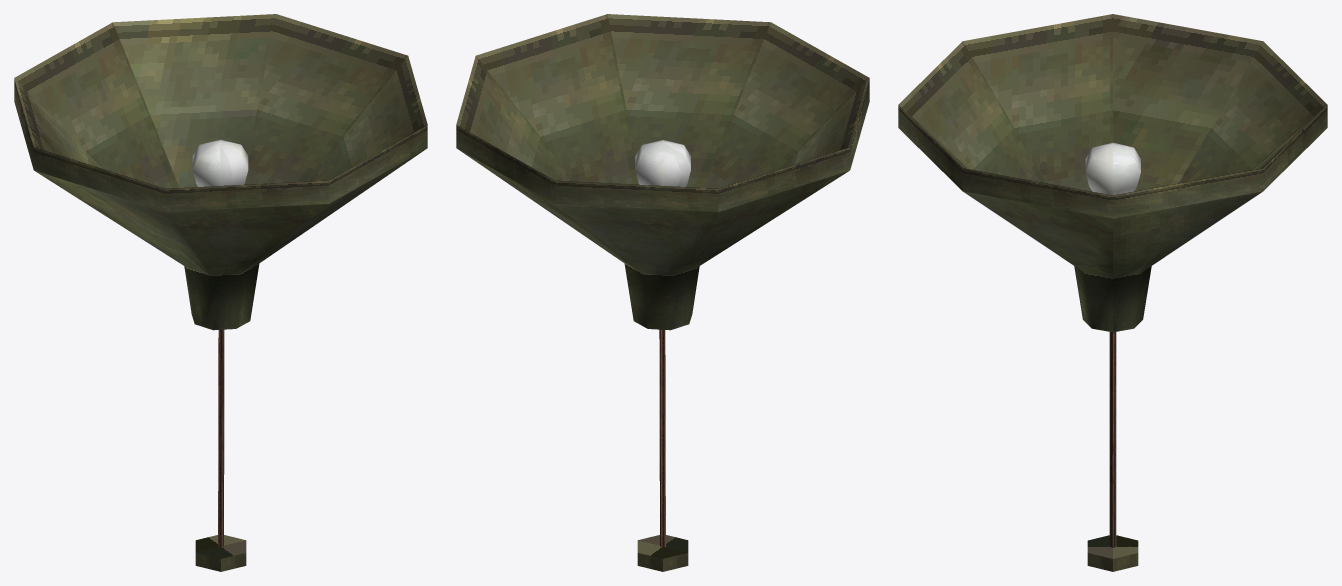
Rendered from hanging_lampshade_lg.fbx.
The picture shows the model from 3 angles, left to right: view 1: azimuth 30°, elevation 25°; view 2: azimuth 150°, elevation 25°; view 3: azimuth 270°, elevation 25°; orthographic projection.
Parts seen in each view (by area): view 1: mesh_3, mesh_0, mesh_2; view 2: mesh_3, mesh_0, mesh_2; view 3: mesh_3, mesh_0, mesh_2.
Boxes of the visible parts, x1,y1,x2,y2 form: mesh_3: (14, 14, 427, 571); mesh_0: (192, 139, 248, 186); mesh_2: (218, 329, 224, 547); mesh_3: (456, 14, 869, 571); mesh_0: (635, 140, 690, 186); mesh_2: (659, 329, 665, 547); mesh_3: (898, 14, 1327, 571); mesh_0: (1085, 142, 1140, 195); mesh_2: (1109, 332, 1116, 547).
Size of the model in its own units: 60 by 70.14 by 60.
4 materials, 4 textured.
